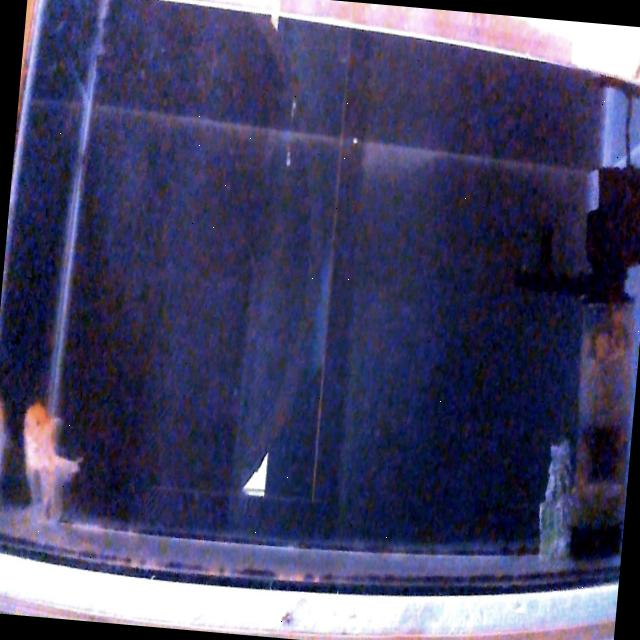fish: (13, 398, 88, 522), (0, 389, 12, 498)
